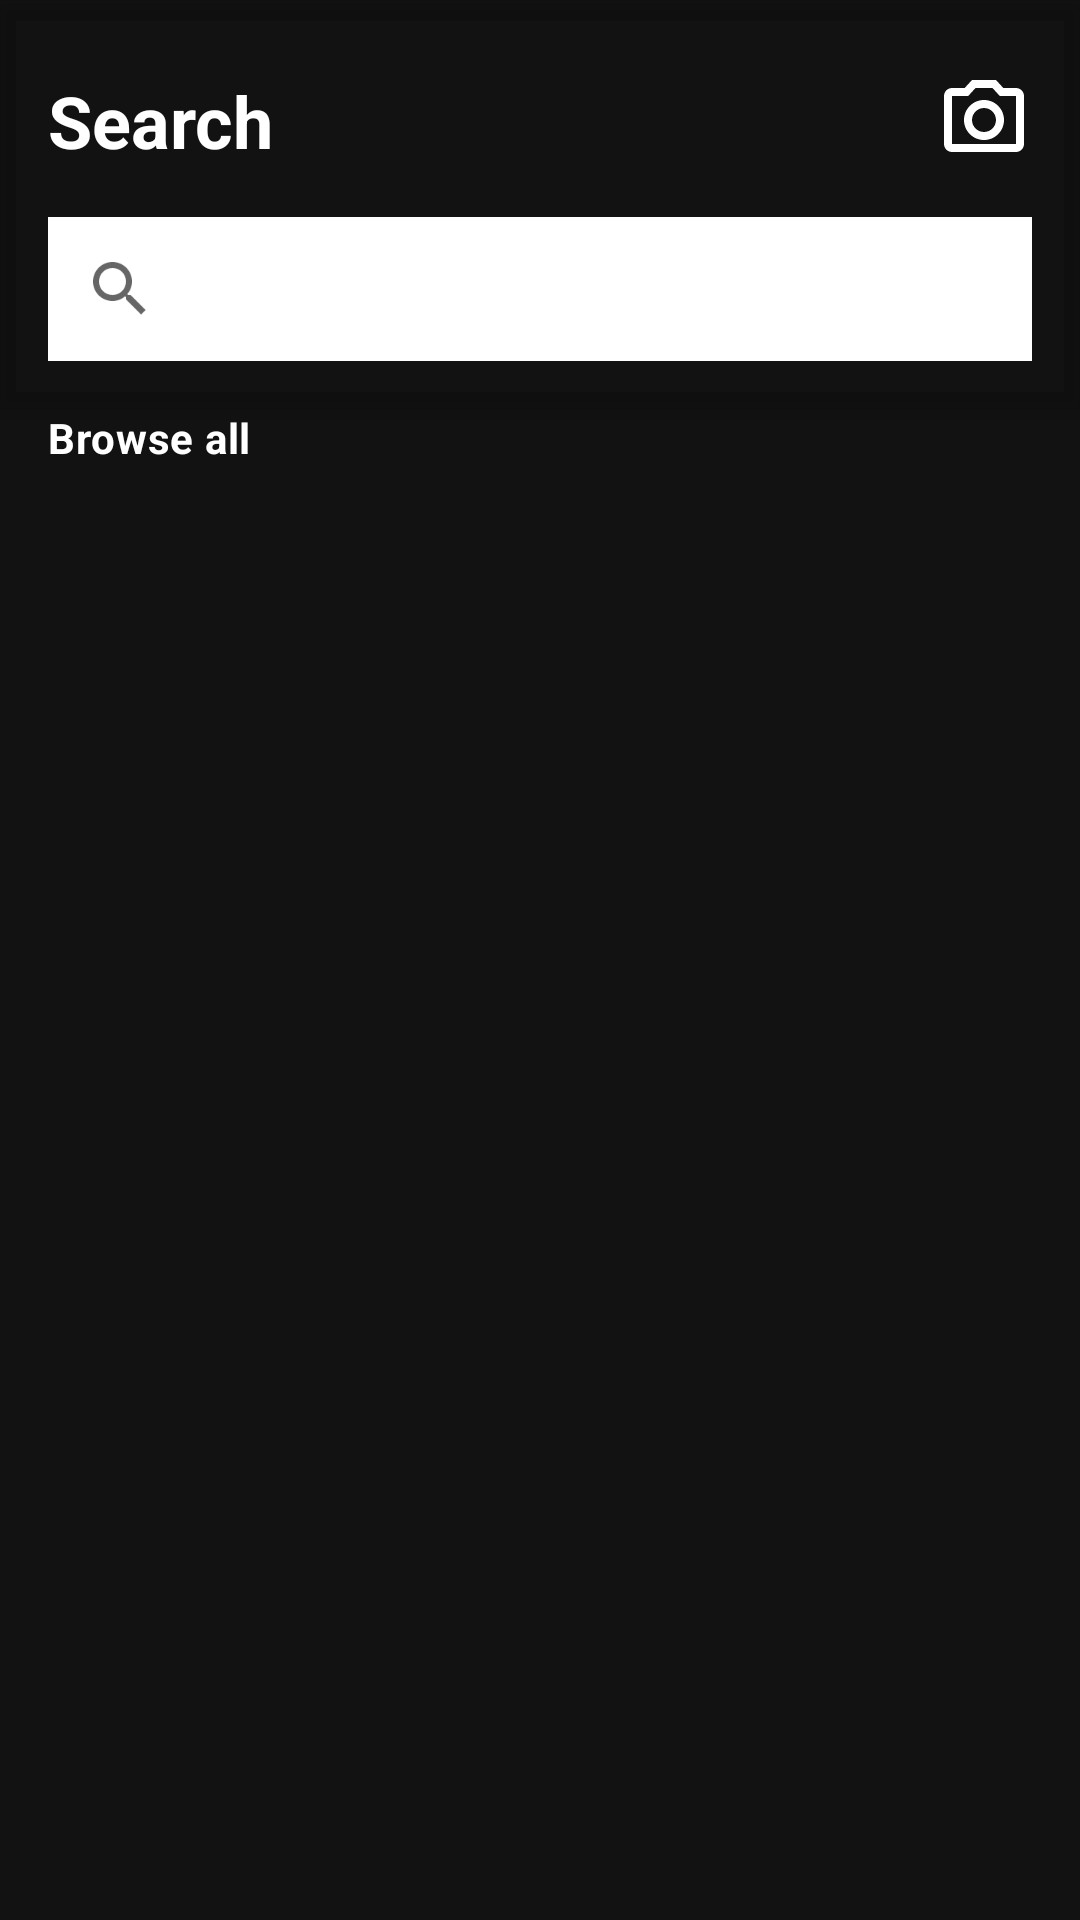

Icons on this 1080px x 1920px Android screen, each with the point to tap as (x=x, y=y):
camera: (x=984, y=116)
